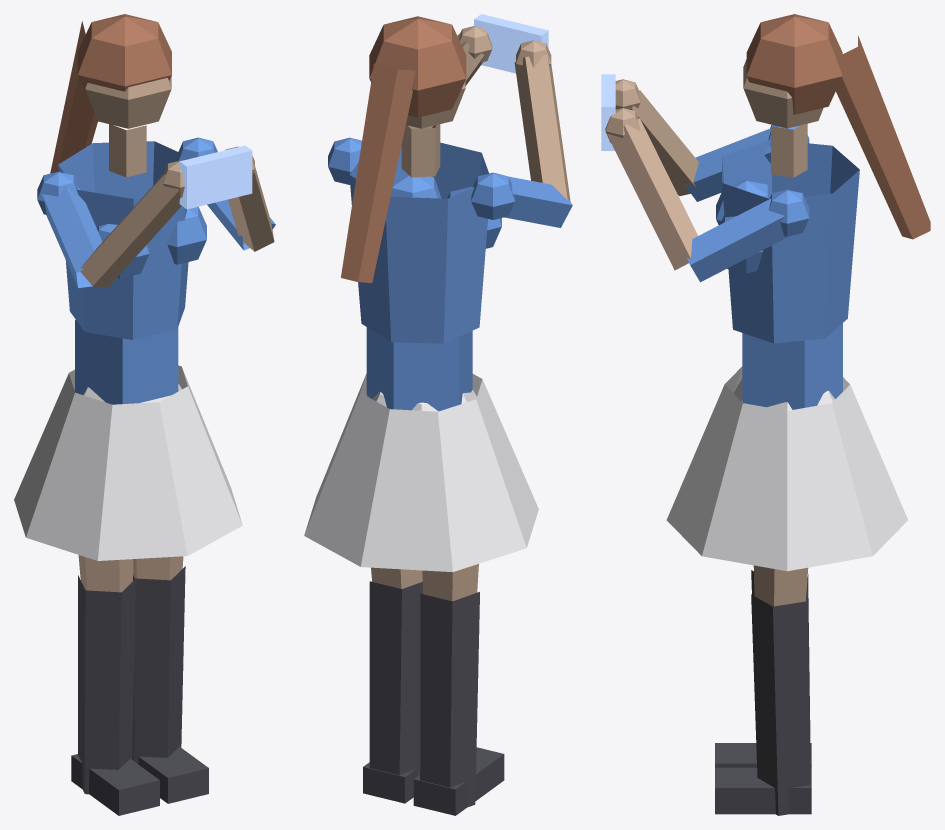
The model's file is angel_photo.glb.
The picture shows the model from 3 angles, left to right: view 1: azimuth 30°, elevation 25°; view 2: azimuth 150°, elevation 25°; view 3: azimuth 270°, elevation 25°; orthographic projection. The views are drawn at different scales.
Parts seen in each view (by area): view 1: angel_photo; view 2: angel_photo; view 3: angel_photo.
Part boxes in pixels (bbox=[...]): angel_photo: bbox=[14, 14, 275, 815]; angel_photo: bbox=[304, 14, 572, 815]; angel_photo: bbox=[601, 14, 930, 815].
Bounding box in the file's own units: 0.475 × 1.68 × 0.6474.
